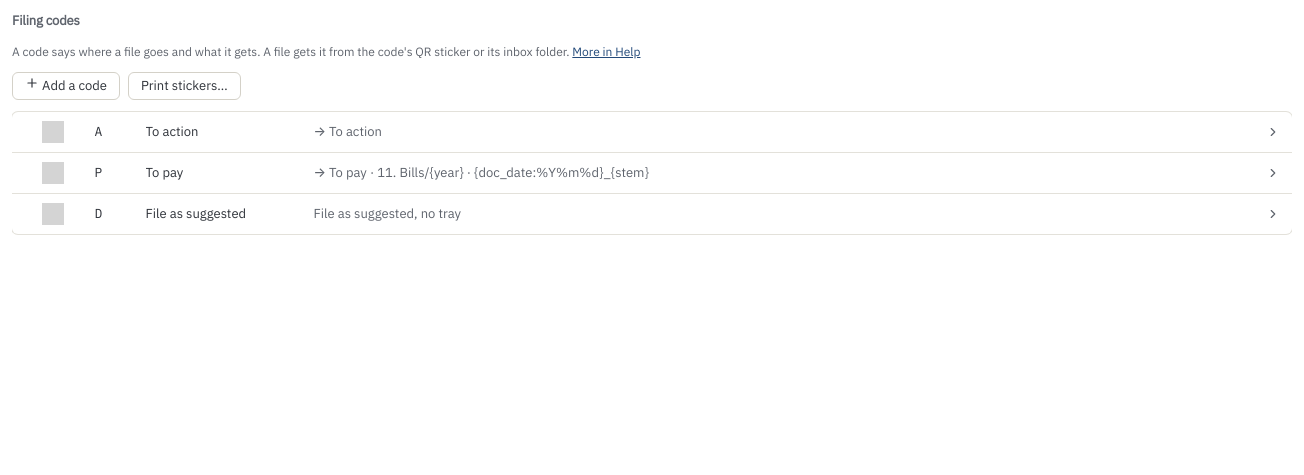
Scenario: Filing codes (Settings) › Discard puts the saved table back
Click the button "A To action → To action" at (53, 132), box [12,112,1292,152]
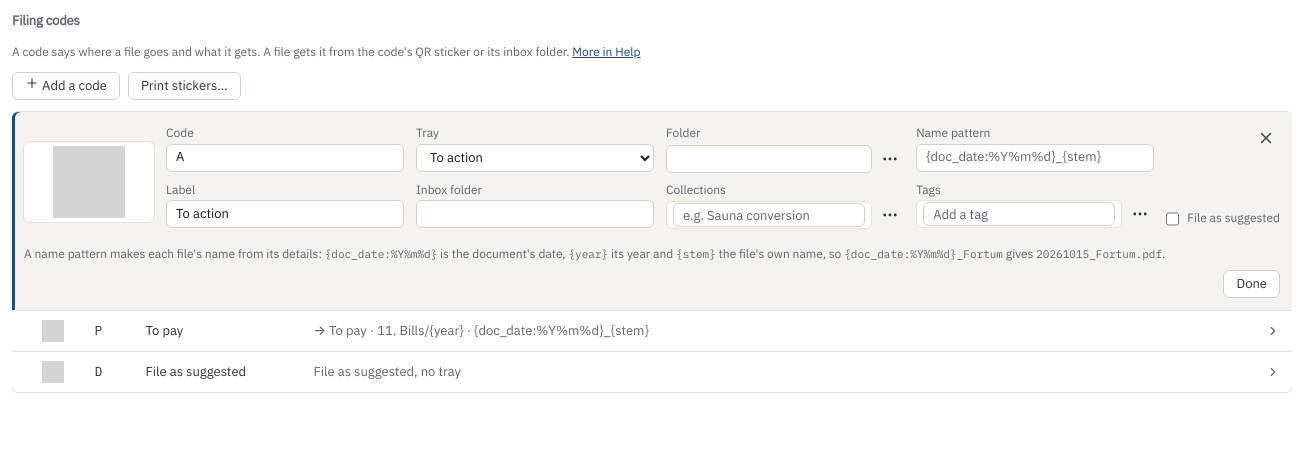
Replace the text in the field labelled "Label" with "Later" at (285, 214), box [166,200,404,228]
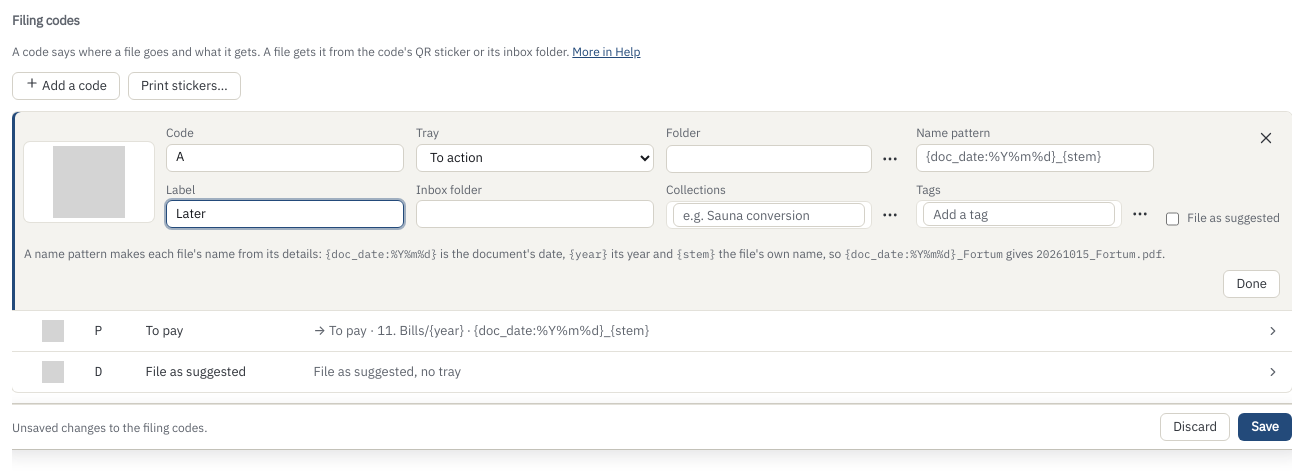
Click the button "Discard" at (1195, 427), box [1160,413,1230,441]
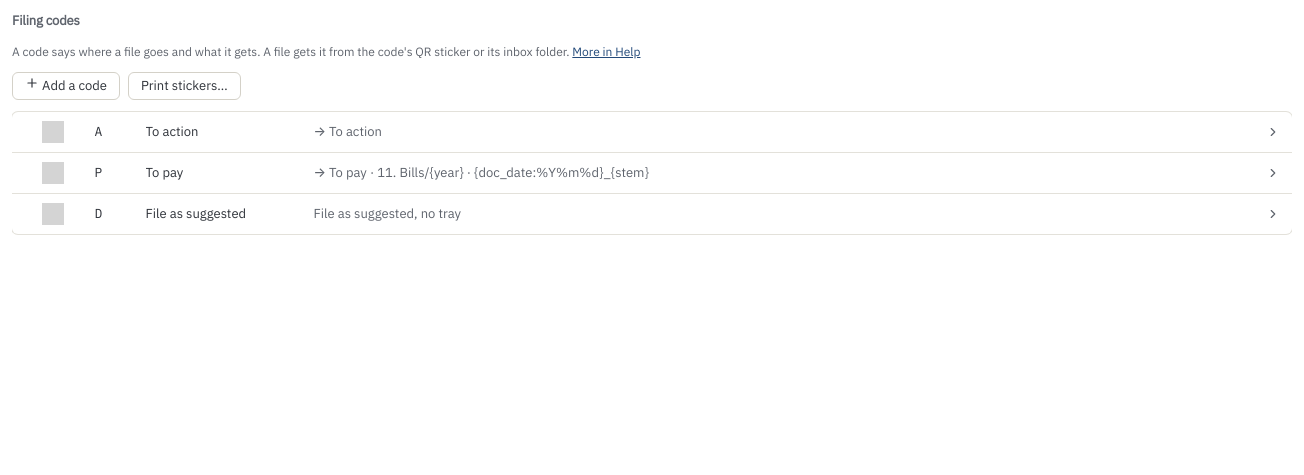
Check: the button "A To action → To action" is shown, box [12,112,1292,152]
Check: the text "Unsaved changes" is gone
